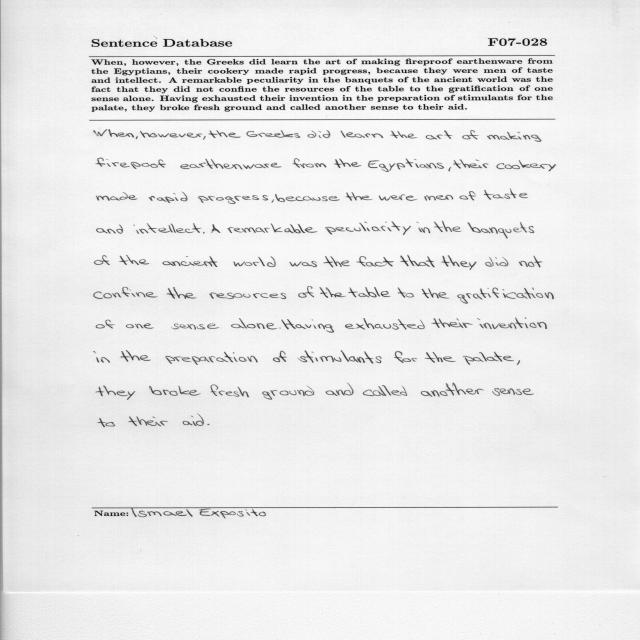word: (457, 287, 554, 304), (165, 352, 258, 365), (325, 221, 411, 235), (468, 222, 534, 239), (298, 351, 381, 364), (368, 158, 444, 172), (181, 159, 282, 169), (345, 318, 425, 330), (228, 224, 318, 234), (421, 383, 484, 397), (96, 158, 166, 169), (477, 318, 547, 329), (94, 287, 158, 299), (134, 223, 202, 234), (281, 319, 334, 333), (262, 386, 314, 399), (463, 352, 514, 365), (497, 160, 556, 171), (198, 195, 268, 204), (163, 256, 218, 267), (140, 131, 206, 140), (96, 385, 135, 400), (231, 318, 277, 330), (487, 132, 541, 142), (441, 255, 476, 270), (275, 194, 340, 202), (149, 386, 201, 396), (211, 385, 249, 398), (484, 189, 528, 200), (363, 385, 407, 396), (233, 256, 276, 267), (210, 293, 287, 299), (247, 130, 301, 138), (348, 287, 391, 297), (400, 255, 435, 267), (431, 318, 473, 328), (149, 192, 187, 203), (356, 256, 394, 267), (128, 417, 168, 427), (96, 192, 138, 201), (93, 129, 134, 138), (326, 383, 354, 396), (453, 159, 489, 169), (167, 287, 197, 299), (120, 351, 151, 362), (425, 352, 456, 363), (293, 158, 327, 168), (492, 388, 534, 396), (434, 221, 462, 232), (119, 255, 149, 265), (422, 288, 449, 299), (341, 131, 383, 138), (171, 324, 219, 330), (324, 256, 350, 267), (320, 287, 346, 298), (394, 351, 417, 363), (183, 413, 204, 426), (379, 194, 417, 201), (519, 256, 542, 267), (426, 131, 453, 140), (334, 159, 361, 168), (346, 192, 373, 201), (97, 225, 123, 234), (485, 257, 508, 267), (390, 131, 417, 139), (216, 130, 241, 138), (94, 351, 110, 363), (308, 130, 331, 138), (298, 287, 314, 298), (424, 195, 453, 201), (96, 320, 115, 329), (462, 130, 479, 140), (289, 261, 317, 267), (126, 323, 154, 329), (398, 288, 414, 298), (417, 222, 431, 233), (273, 351, 287, 362), (98, 418, 115, 427), (95, 255, 110, 265), (460, 191, 476, 200), (211, 224, 220, 233), (208, 131, 218, 139), (517, 360, 520, 365), (448, 167, 451, 171), (272, 199, 274, 203), (136, 136, 138, 139), (203, 232, 205, 233), (279, 328, 281, 329), (208, 424, 210, 425)
